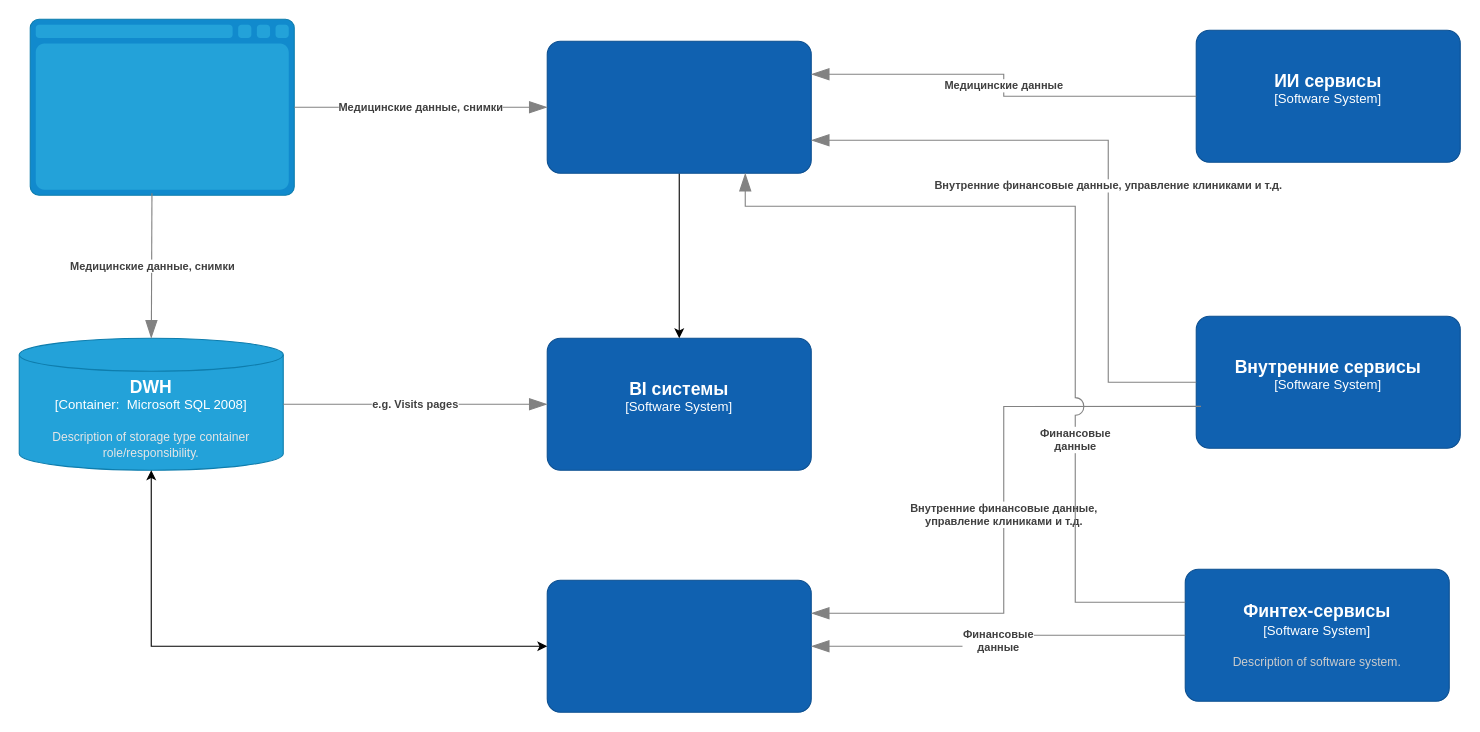
This 1480x732 diagram has some shape labels left out. Here are the shapes that lost their labels. From the top down, the box of each, then its label:
(29, 18, 294, 195): Клиентский портал самообслуживания [Container: e.g. JavaScript, Angular etc.]
(546, 40, 811, 173): Data Mesh [DataHub]
(546, 579, 811, 712): Интеграционная шина [Apache Camel]
